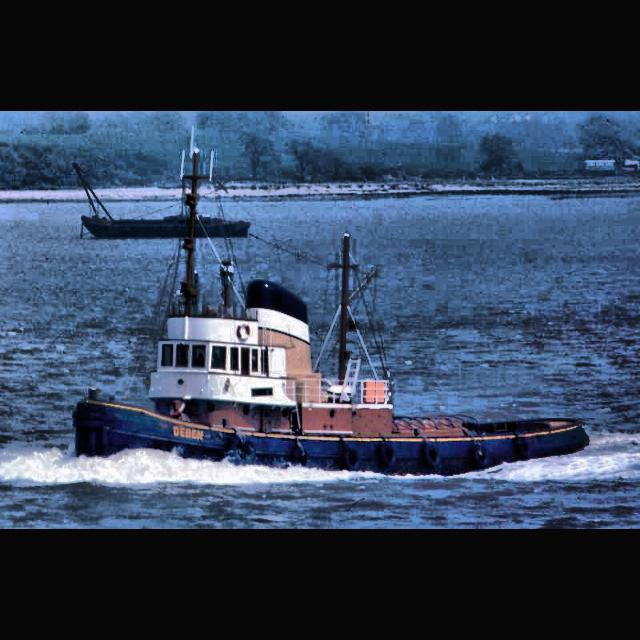tug: (71, 253, 591, 482)
